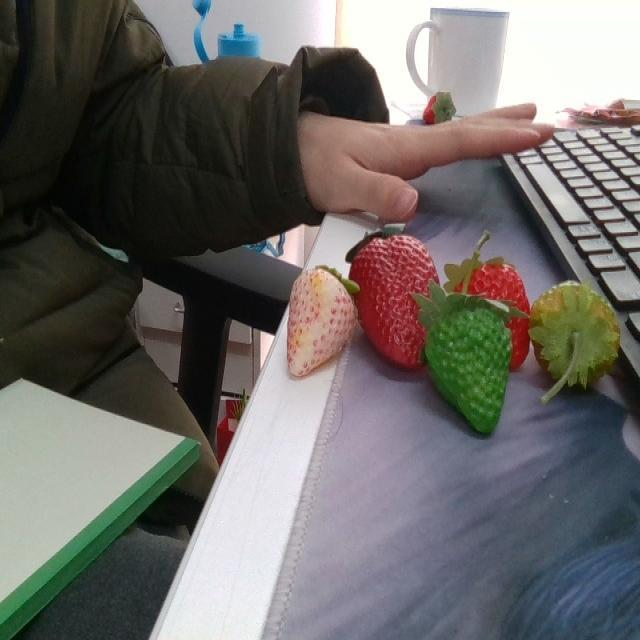strawberry: (348, 232, 439, 366), (424, 306, 513, 434), (451, 258, 530, 369), (286, 264, 356, 374)
